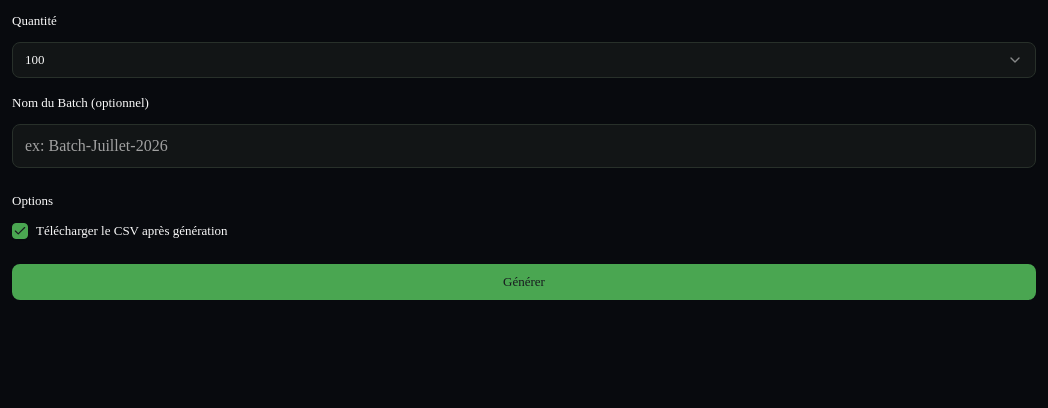
Test case: GenerateQrForm › renders a root error when the action reports one
Click the button "Générer" at (524, 282), box x1=12 y1=264 x2=1036 y2=300
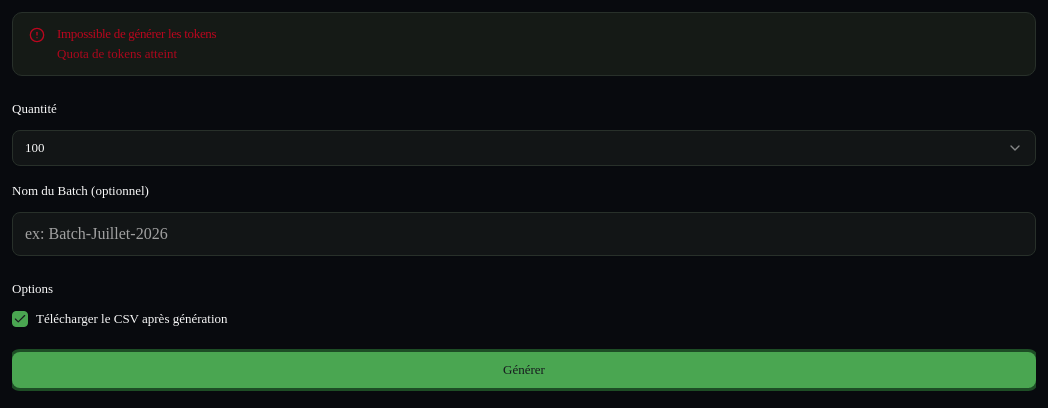
Result: the text "Impossible de générer les tokens" is shown at x1=57 y1=26 x2=216 y2=41
Result: the text "Quota de tokens atteint" is shown at x1=57 y1=46 x2=177 y2=61
